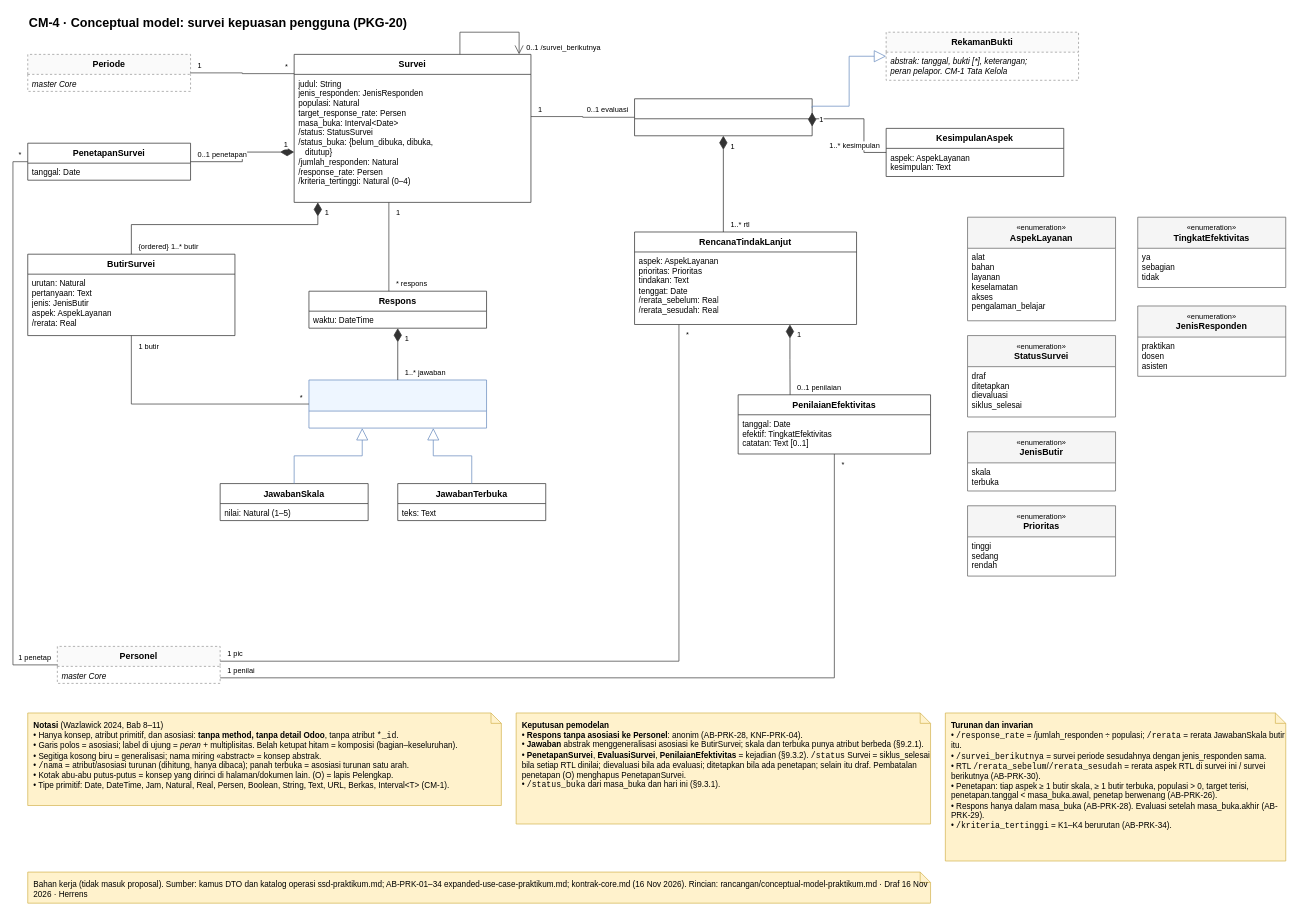
Image size: 1299x916. Some labels were removed from this diagram. The shapes that lost their labels are listed below. From the top down, each one's centre as x and y in pixels, then its label:
[723,117]: EvaluasiSurvei
[397,403]: «abstract» Jawaban
